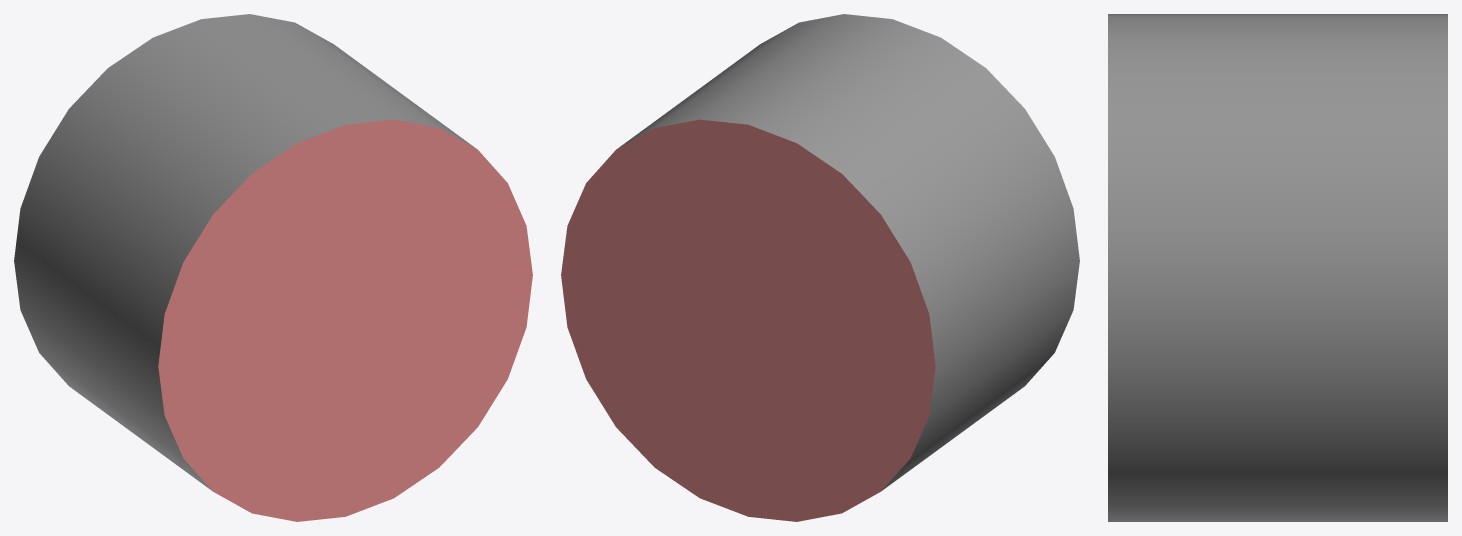
Rendered from S_Envi_Common_Pipe_01g.gltf.
3 renders of one model, left to right at view 1: azimuth 30°, elevation 25°; view 2: azimuth 150°, elevation 25°; view 3: azimuth 270°, elevation 25°, orthographic. The views are drawn at different scales.
Visible parts, largest first — view 1: S_Envi_Common_Pipe_01g; view 2: S_Envi_Common_Pipe_01g; view 3: S_Envi_Common_Pipe_01g.
Part boxes in pixels (x1,y1,x2,y2): S_Envi_Common_Pipe_01g: [14, 14, 532, 521]; S_Envi_Common_Pipe_01g: [561, 14, 1079, 521]; S_Envi_Common_Pipe_01g: [1108, 14, 1447, 521].
Size of the model in its own units: 1.2 by 1.2 by 0.8.
